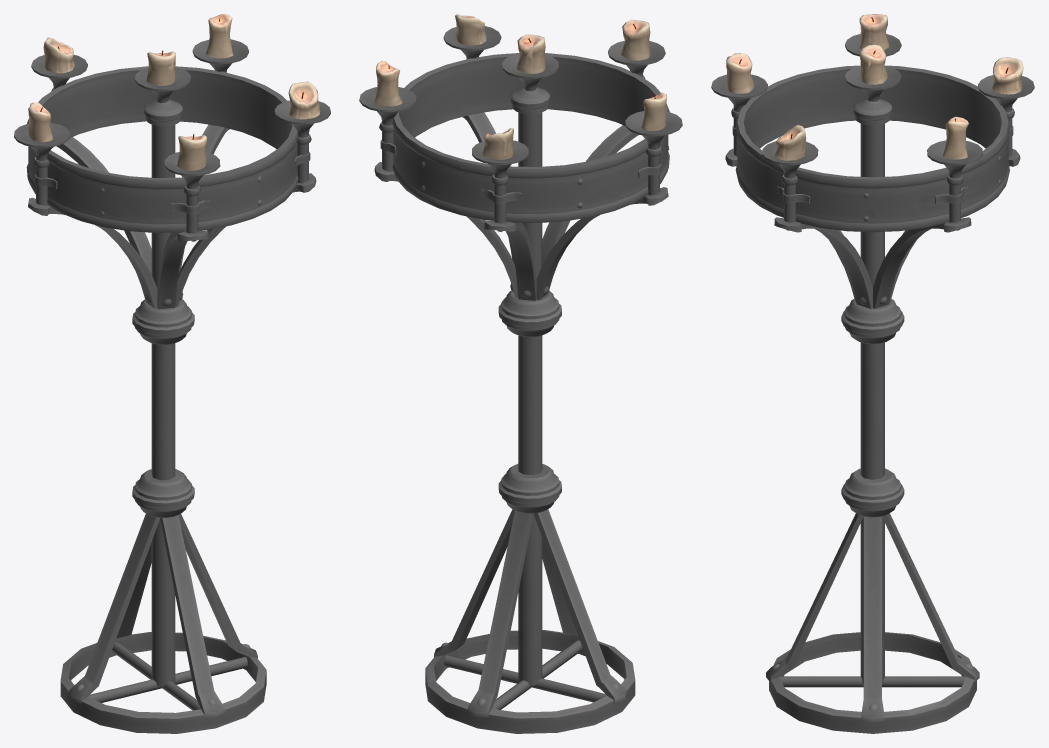
The model's file is SM_Candelabra_02.fbx.
The picture shows the model from 3 angles, left to right: view 1: azimuth 30°, elevation 25°; view 2: azimuth 150°, elevation 25°; view 3: azimuth 270°, elevation 25°; orthographic projection.
Visible parts, largest first — view 1: SM_Candelabra_02_LOD0; view 2: SM_Candelabra_02_LOD0; view 3: SM_Candelabra_02_LOD0.
Boxes of the visible parts, left/top/right/bottom form: SM_Candelabra_02_LOD0: left=14, top=14, right=330, bottom=733; SM_Candelabra_02_LOD0: left=359, top=14, right=682, bottom=733; SM_Candelabra_02_LOD0: left=711, top=14, right=1034, bottom=733.
Size of what is drawn, in the model's own units: 0.7828 by 1.78 by 0.8158.
